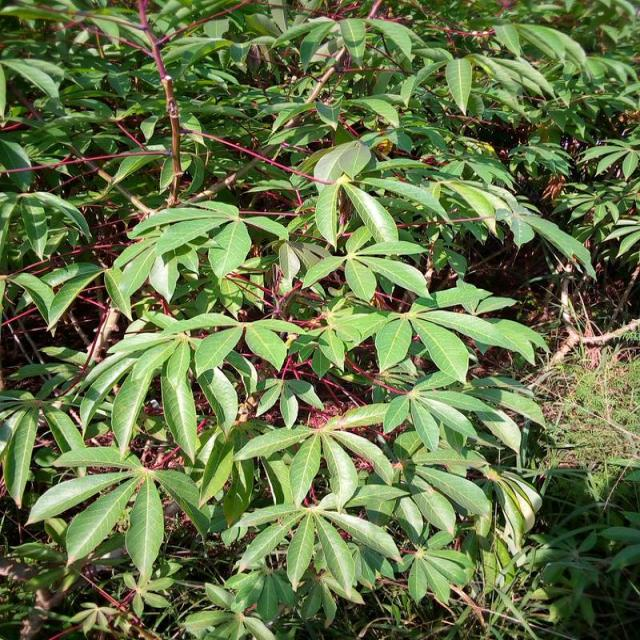cassava leaf: (2, 1, 631, 636)
